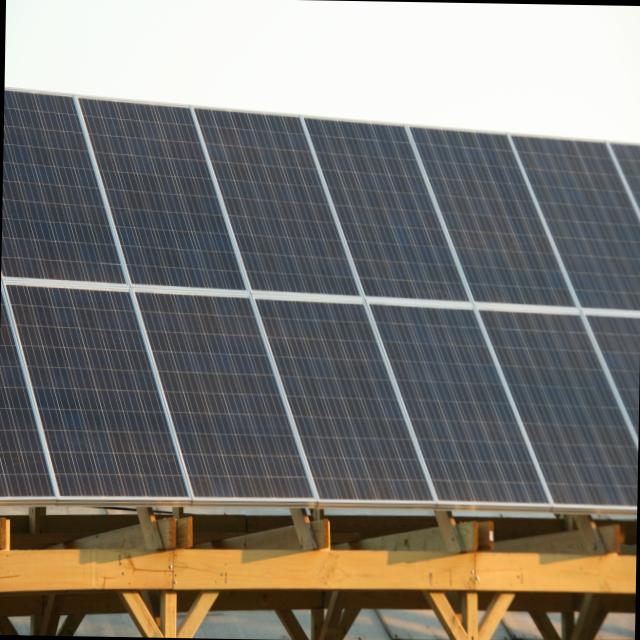no faulty: (0, 141, 639, 502)
